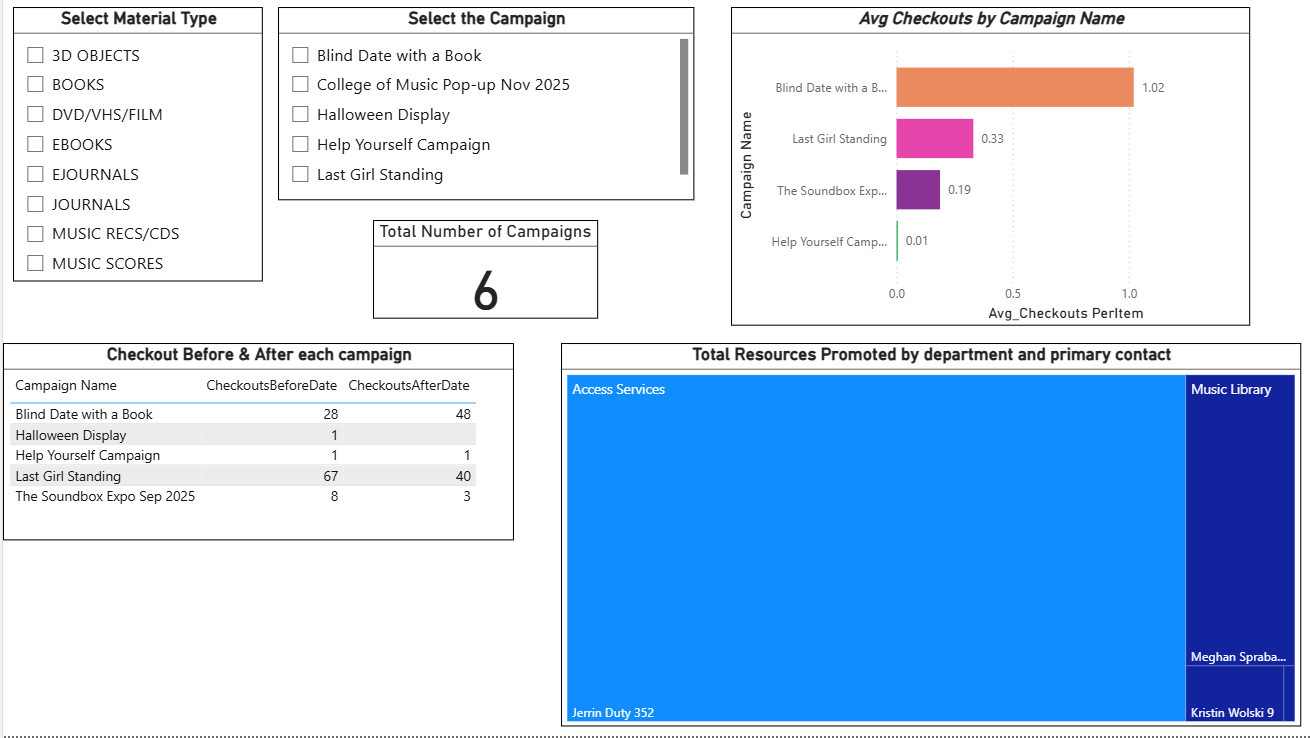

This screenshot's page, from the dashboard's own definition file:
{"tool":"powerbi","page":{"name":"DASHBOARD","canvas":[1280,720],"ordinal":1},"visuals":[{"type":"slicer","title":"Select Material Type","fields":{"Values":["MergedPromoRecords.MatType"]},"box":[9.7,10.7,243.2,267.5],"z":0},{"type":"card","title":"Total Number of Campaigns","fields":{"Values":["MergedPromoRecords.Total_Campaigns"]},"box":[359.9,217.9,218.8,96.3],"z":1000},{"type":"tableEx","title":"Checkout Before & After each campaign","fields":{"Values":["MergedPromoRecords.Campaign Name","H.vItemCheckoutsWithRecords.CheckoutsBeforeDate","H.vItemCheckoutsWithRecords.CheckoutsAfterDate"]},"box":[0,337.5,497,191.6],"z":2000},{"type":"treemap","title":"Total Resources Promoted by department and primary contact ","fields":{"Group":["MergedPromoRecords.Department Hierarchy.Department","MergedPromoRecords.Department Hierarchy.Primary Contact "],"Details":["MergedPromoRecords.Primary Contact "],"Values":["MergedPromoRecords.Total_Resources Promoted"]},"box":[542.7,337.5,719.8,373.5],"z":3000},{"type":"clusteredBarChart","title":"Avg Checkouts by Campaign Name","fields":{"Category":["MergedPromoRecords.Campaign Name"],"Y":["MergedPromoRecords.Avg_Checkouts_Per_Item_3Months_AfterStart"]},"box":[708.1,10.7,504.8,310.3],"z":4000},{"type":"slicer","title":"Select the Campaign","fields":{"Values":["MergedPromoRecords.Campaign Name"]},"box":[267.5,10.7,404.6,187.7],"z":5000}]}

Visuals, with their boxes in screenshot pixels (x1, y1, x2, y2), scaled from the page's 1280x720 canvas onto the 1312x738 screenshot:
"Select Material Type" slicer: [x1=10, y1=11, x2=259, y2=285]
"Total Number of Campaigns" card: [x1=369, y1=223, x2=593, y2=322]
"Checkout Before & After each campaign" tableEx: [x1=0, y1=346, x2=509, y2=542]
"Total Resources Promoted by department and primary contact " treemap: [x1=556, y1=346, x2=1294, y2=729]
"Avg Checkouts by Campaign Name" clusteredBarChart: [x1=726, y1=11, x2=1243, y2=329]
"Select the Campaign" slicer: [x1=274, y1=11, x2=689, y2=203]
